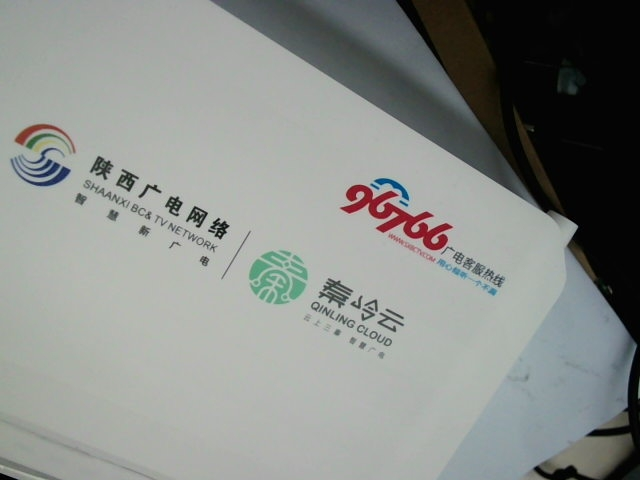QinLing: (245, 244, 406, 365)
